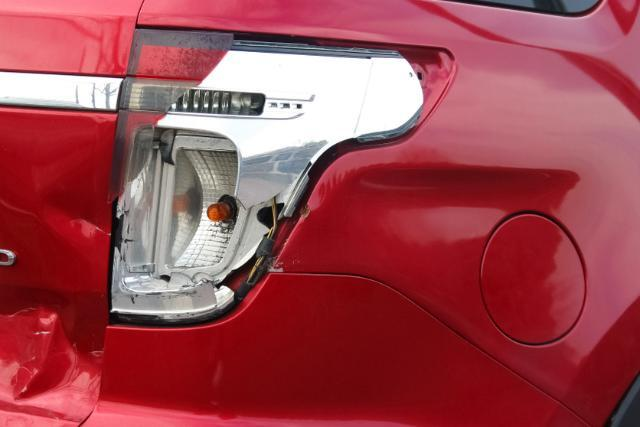Dickey: (0, 278, 93, 420)
Light: (105, 29, 376, 310)
